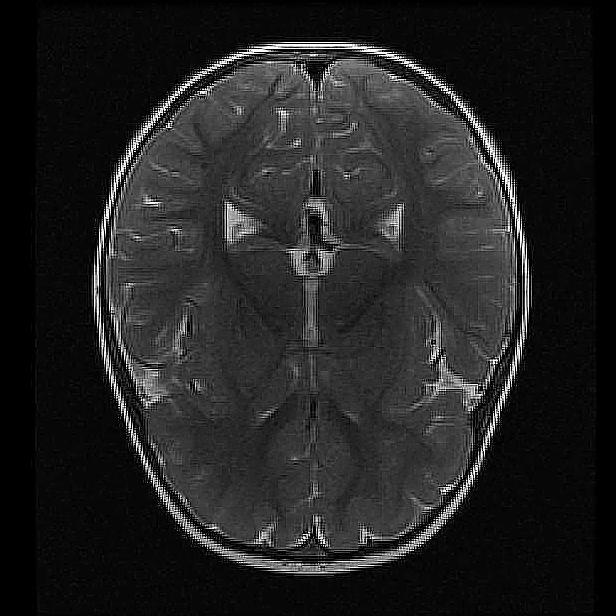Normal_Brain: (44, 1, 616, 614)
